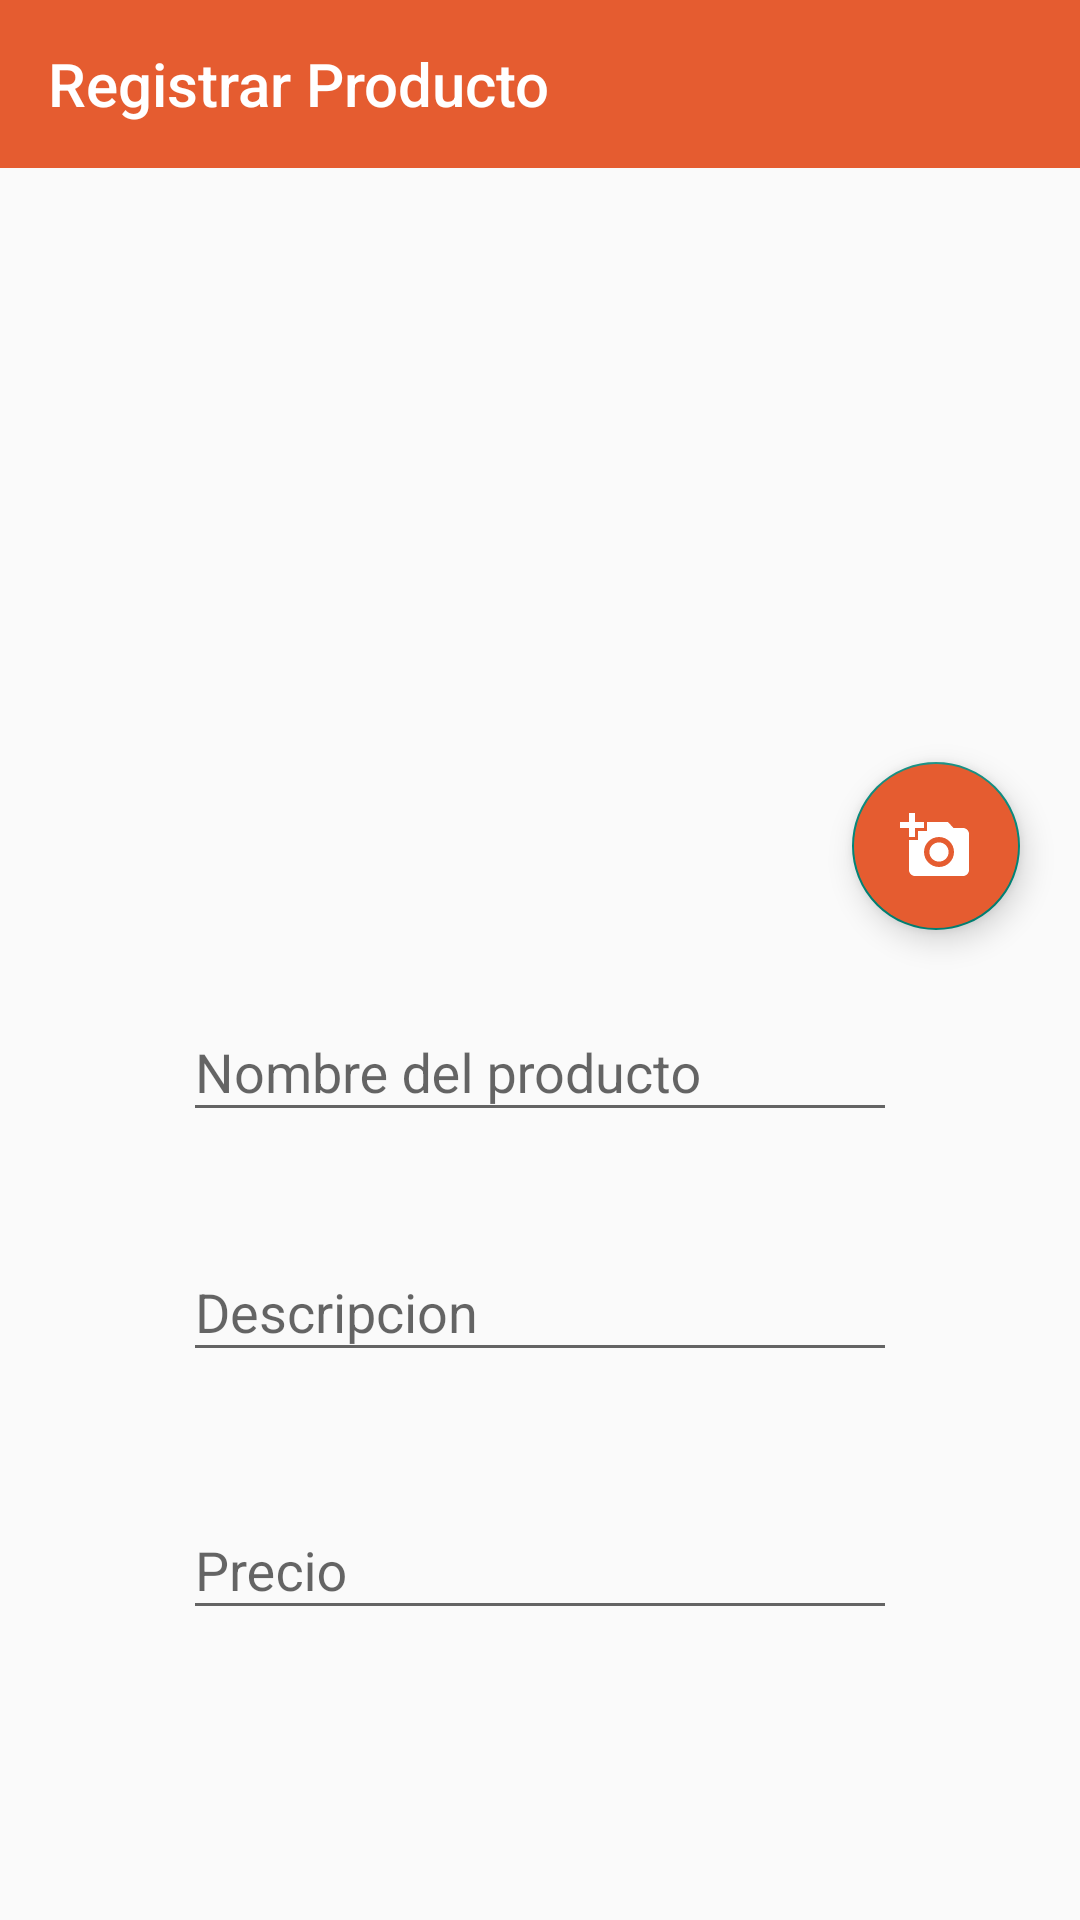

Where to tap for icons on this 1080x1920 app screen, as (x,y):
add photo: (936,846)
